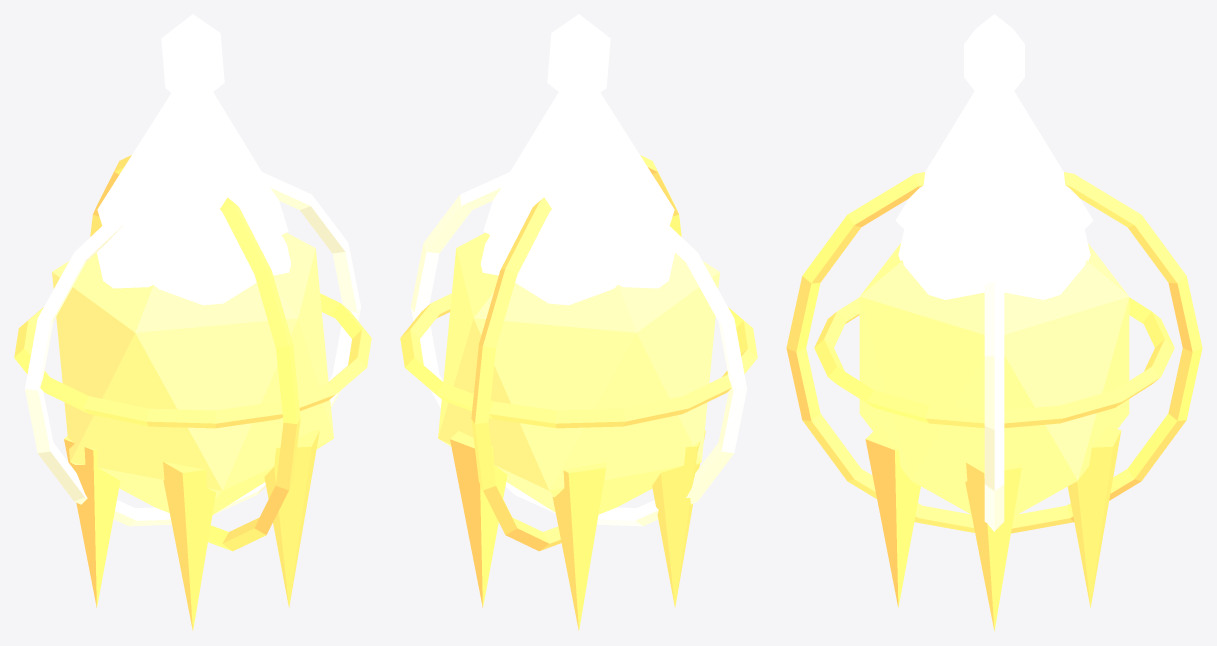
Rendered from nova_cannon_bolt.glb.
3 views of the same model, side by side, from view 1: azimuth 30°, elevation 25°; view 2: azimuth 150°, elevation 25°; view 3: azimuth 270°, elevation 25° (orthographic).
Visible parts, largest first — view 1: NovaDenseShell, NovaImpactNose, NovaContainmentRing_1, NovaContainmentRing_0, NovaContainmentRing_2, NovaPlasmaCore, NovaWake_4, NovaLeadingFocus, NovaWake_3, NovaWake_5; view 2: NovaDenseShell, NovaImpactNose, NovaContainmentRing_1, NovaContainmentRing_0, NovaContainmentRing_2, NovaPlasmaCore, NovaWake_2, NovaLeadingFocus, NovaWake_1, NovaWake_3; view 3: NovaDenseShell, NovaImpactNose, NovaContainmentRing_2, NovaContainmentRing_0, NovaPlasmaCore, NovaContainmentRing_1, NovaWake_5, NovaWake_1, NovaWake_0, NovaLeadingFocus.
Boxes of the visible parts, x1,y1,x2,y2 form: NovaDenseShell: (52,232,333,514); NovaImpactNose: (97,92,288,260); NovaContainmentRing_1: (25,172,360,526); NovaContainmentRing_0: (14,293,371,428); NovaContainmentRing_2: (90,155,300,551); NovaPlasmaCore: (97,235,291,305); NovaWake_4: (163,461,215,630); NovaLeadingFocus: (161,14,224,99); NovaWake_3: (64,436,120,607); NovaWake_5: (264,429,319,607); NovaDenseShell: (438,232,719,514); NovaImpactNose: (483,92,674,260); NovaContainmentRing_1: (411,172,746,526); NovaContainmentRing_0: (400,293,757,428); NovaContainmentRing_2: (471,155,681,551); NovaPlasmaCore: (480,235,674,305); NovaWake_2: (552,462,606,630); NovaLeadingFocus: (547,14,610,99); NovaWake_1: (450,431,507,607); NovaWake_3: (652,430,705,607); NovaDenseShell: (859,243,1129,516); NovaImpactNose: (895,91,1093,260); NovaContainmentRing_2: (786,172,1202,533); NovaContainmentRing_0: (814,297,1174,428); NovaPlasmaCore: (898,230,1090,299); NovaContainmentRing_1: (984,222,1004,531); NovaWake_5: (865,425,920,607); NovaWake_1: (1067,427,1121,607); NovaWake_0: (965,462,1021,631); NovaLeadingFocus: (964,14,1024,98).
Size of the model in its own units: 0.98 by 1.59 by 1.05.
